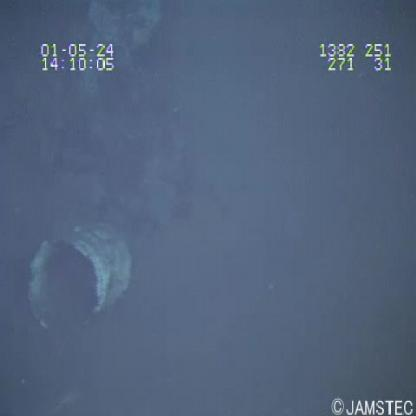Rác: (21, 214, 141, 342)
